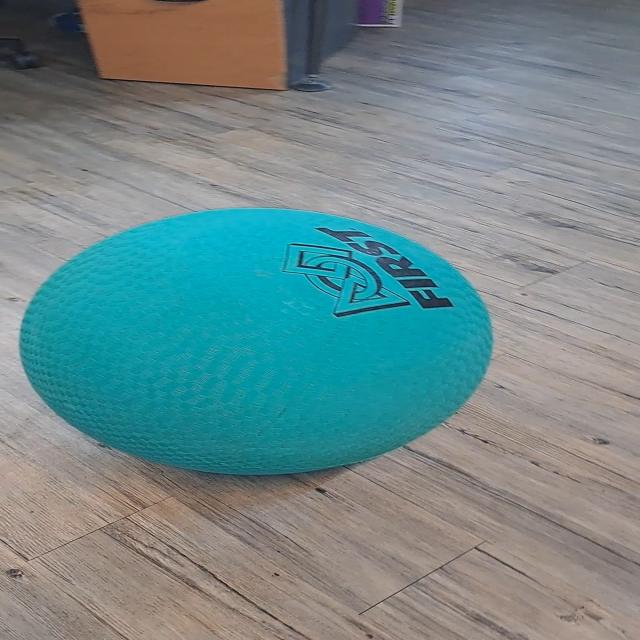ALGAE: (17, 206, 495, 477)
